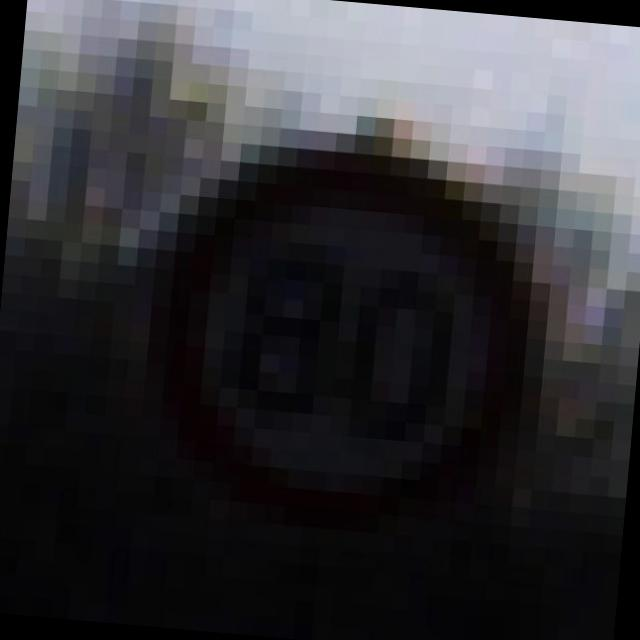Ograniczenie predkosci do 80: (141, 132, 544, 546)
